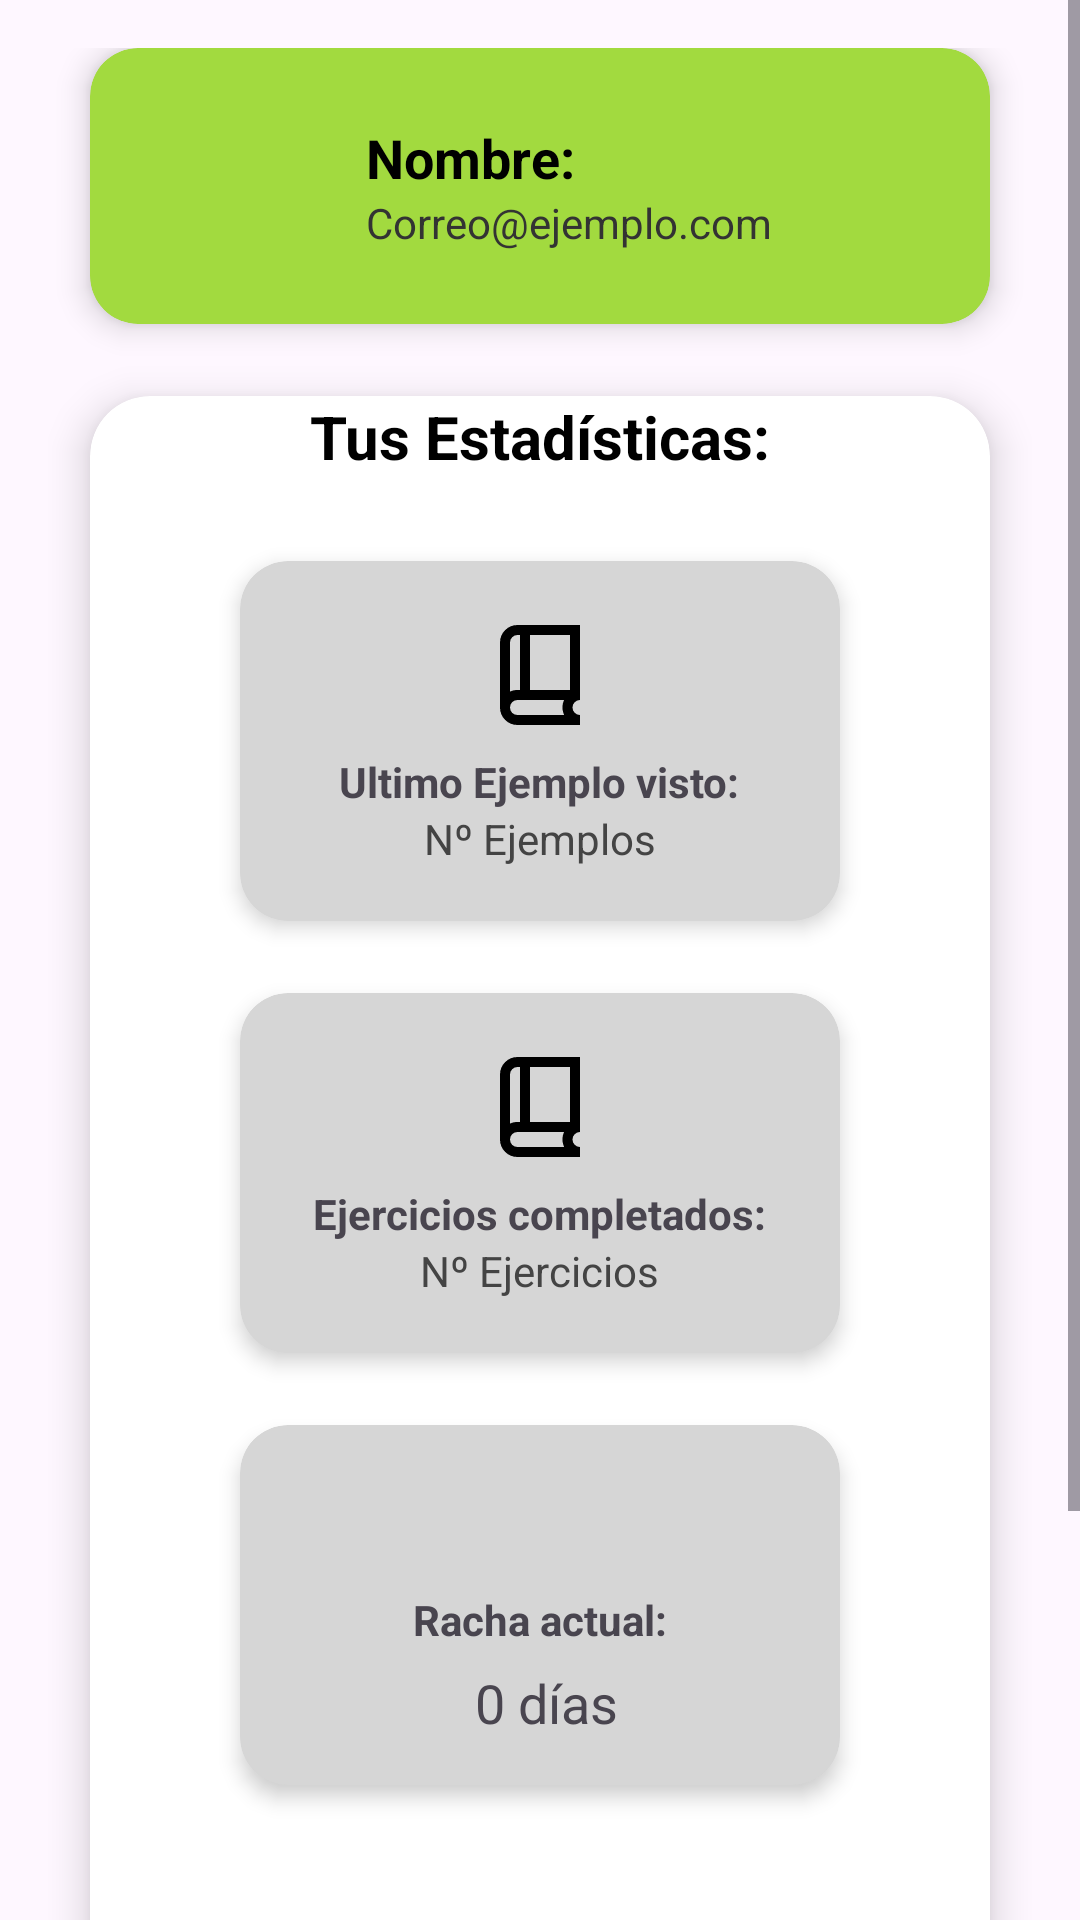

Locate icon controls on the screen. Image size 1080px x 1920px, boxes as (x1, y1, x2, y2).
book: (500, 625, 580, 725), (500, 1057, 580, 1157)
